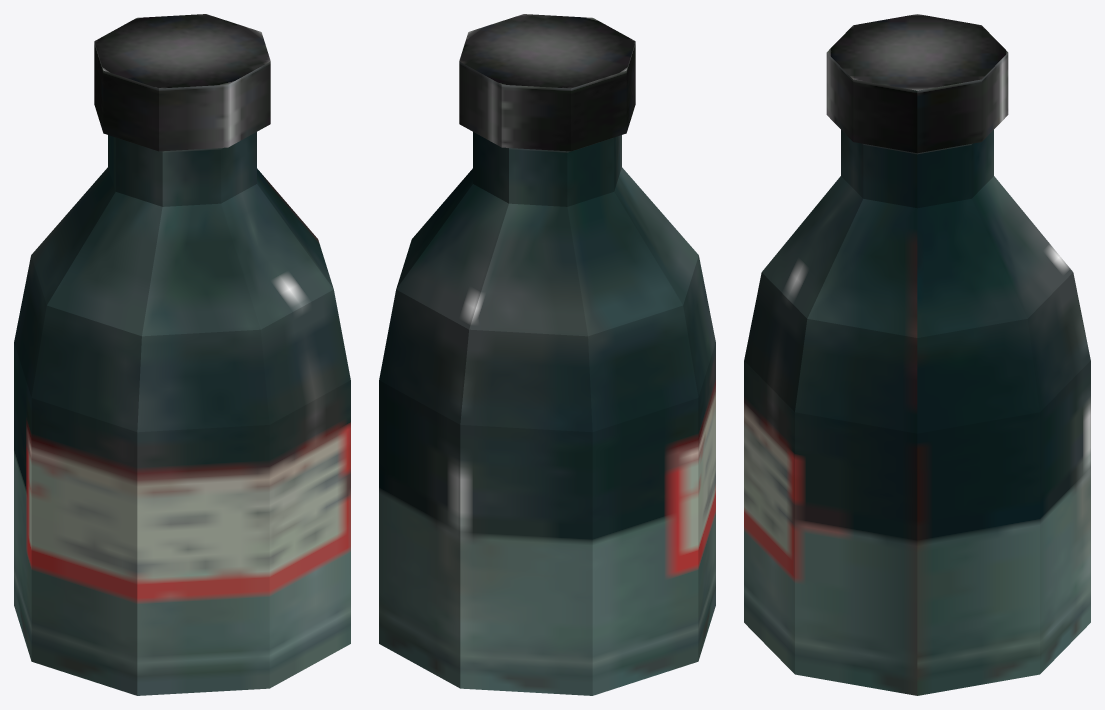
File: jar_small_3.fbx
3 views of the same model, side by side, from view 1: azimuth 30°, elevation 25°; view 2: azimuth 150°, elevation 25°; view 3: azimuth 270°, elevation 25° (orthographic).
Parts seen in each view (by area): view 1: mesh_0; view 2: mesh_0; view 3: mesh_0.
Boxes of the visible parts, x1,y1,x2,y2 form: mesh_0: (14,14,350,695); mesh_0: (379,14,715,695); mesh_0: (744,14,1090,695).
Size of the model in its own units: 5.51 by 10 by 5.51.
1 material, 1 textured.
